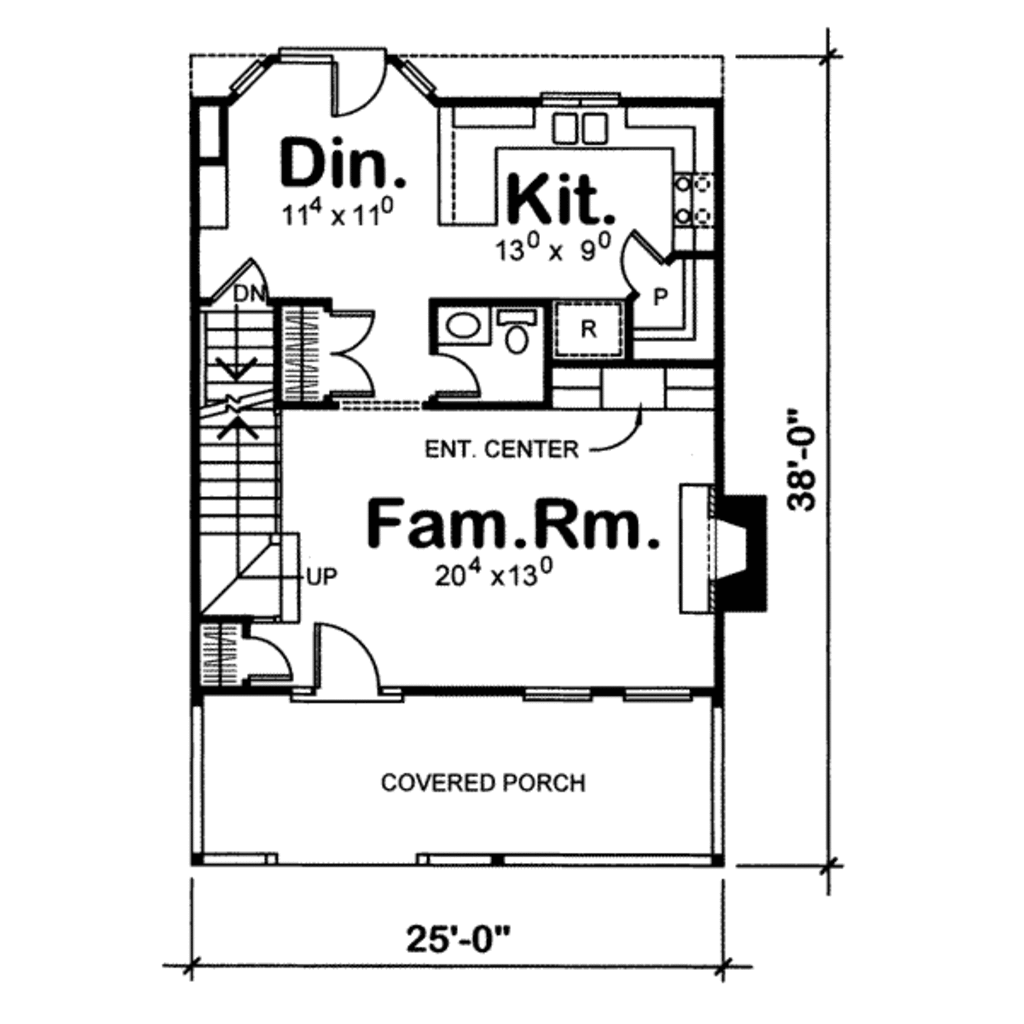door: (302, 622, 388, 705), (314, 300, 383, 394), (609, 222, 673, 303), (327, 39, 386, 117), (431, 350, 484, 411), (244, 628, 297, 686)
large_sink: (495, 300, 548, 366)
small_sink: (436, 299, 494, 352)
stairs: (198, 307, 313, 621)
twin_sink: (542, 97, 622, 150)
window: (619, 672, 698, 708), (522, 674, 592, 710)
